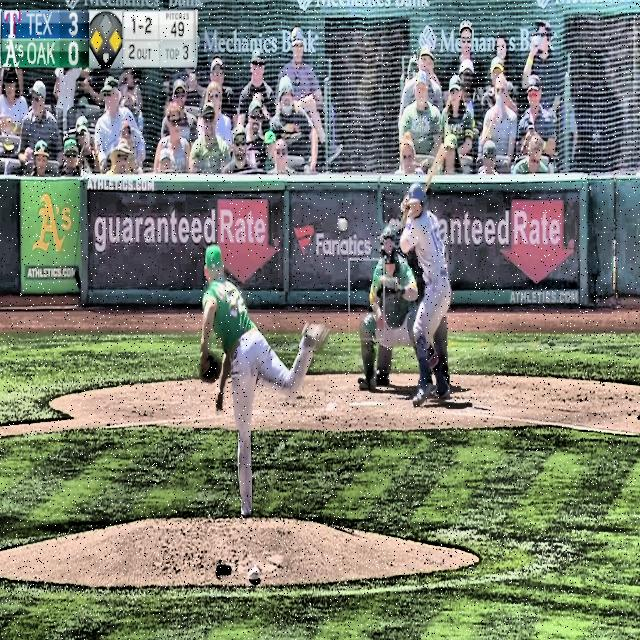baseball: (338, 217, 348, 231)
